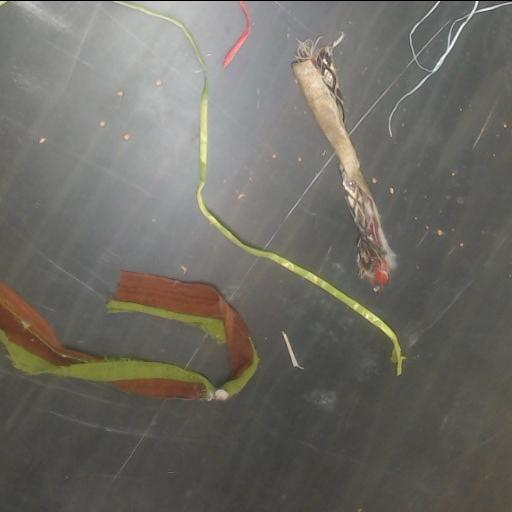cloth: (0, 270, 257, 400), (292, 42, 395, 290)
conveyor belt: (0, 1, 511, 512)
thread: (113, 1, 404, 374), (388, 1, 511, 136), (222, 1, 251, 68), (282, 331, 303, 368)
